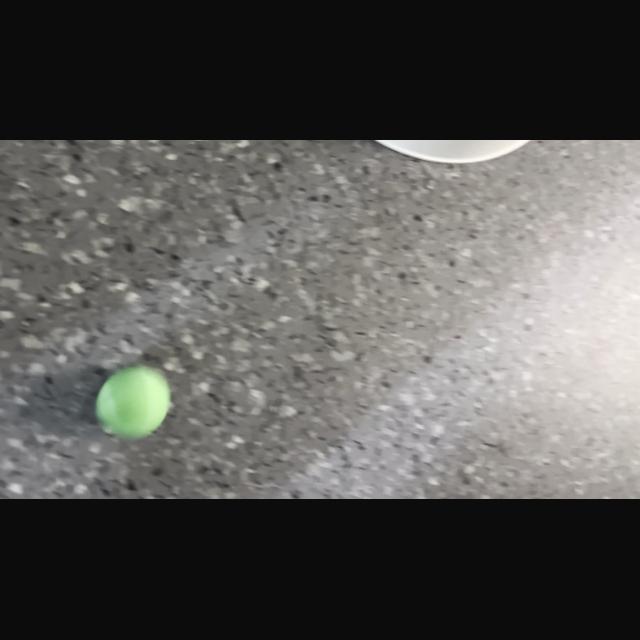objects: (88, 358, 178, 449)
